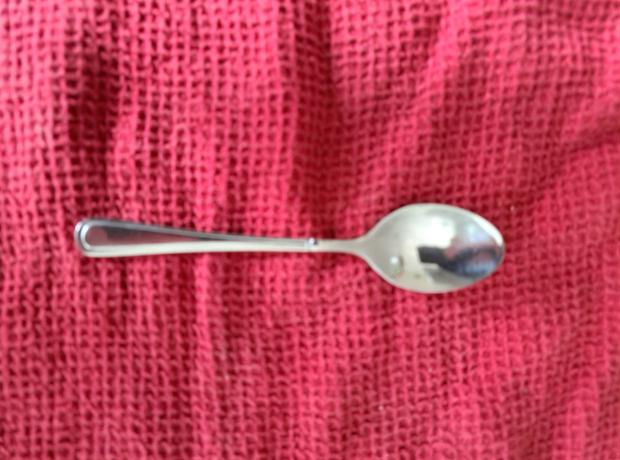metal: (54, 194, 509, 306)
